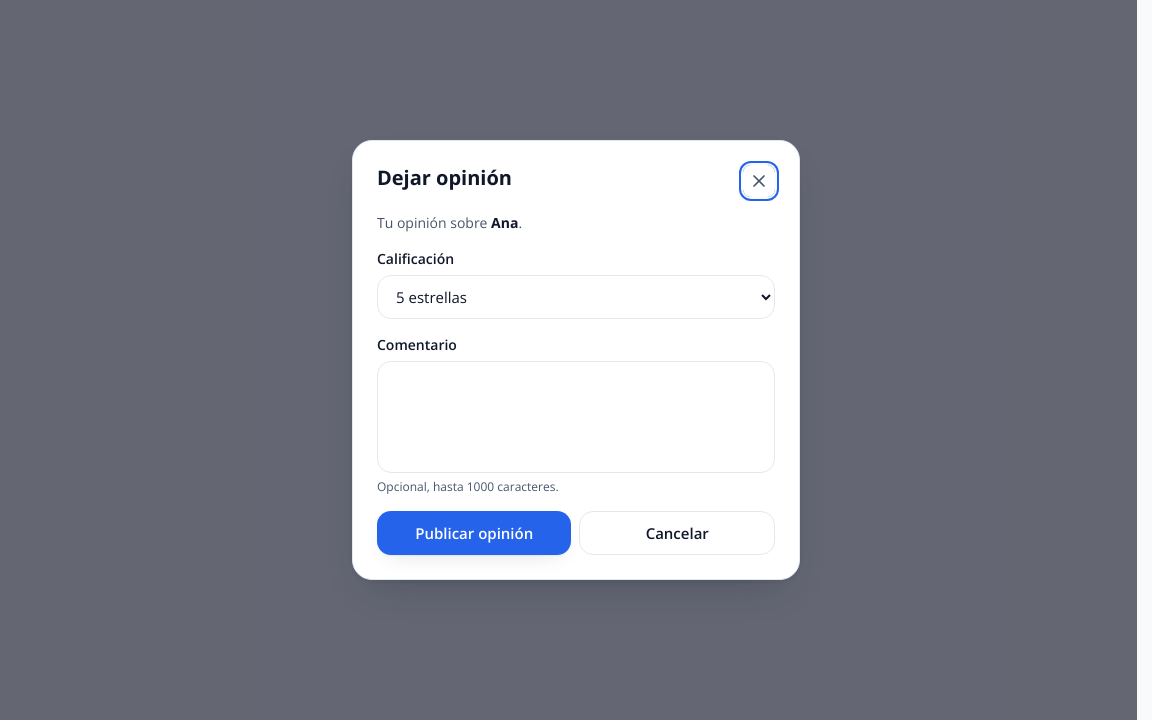
Scenario: ReviewModal › explains the accepted-contact rule when the API rejects with 403
Click the button "Publicar opinión". click: (474, 533)
box: top-left (377, 511), bottom-right (571, 555)
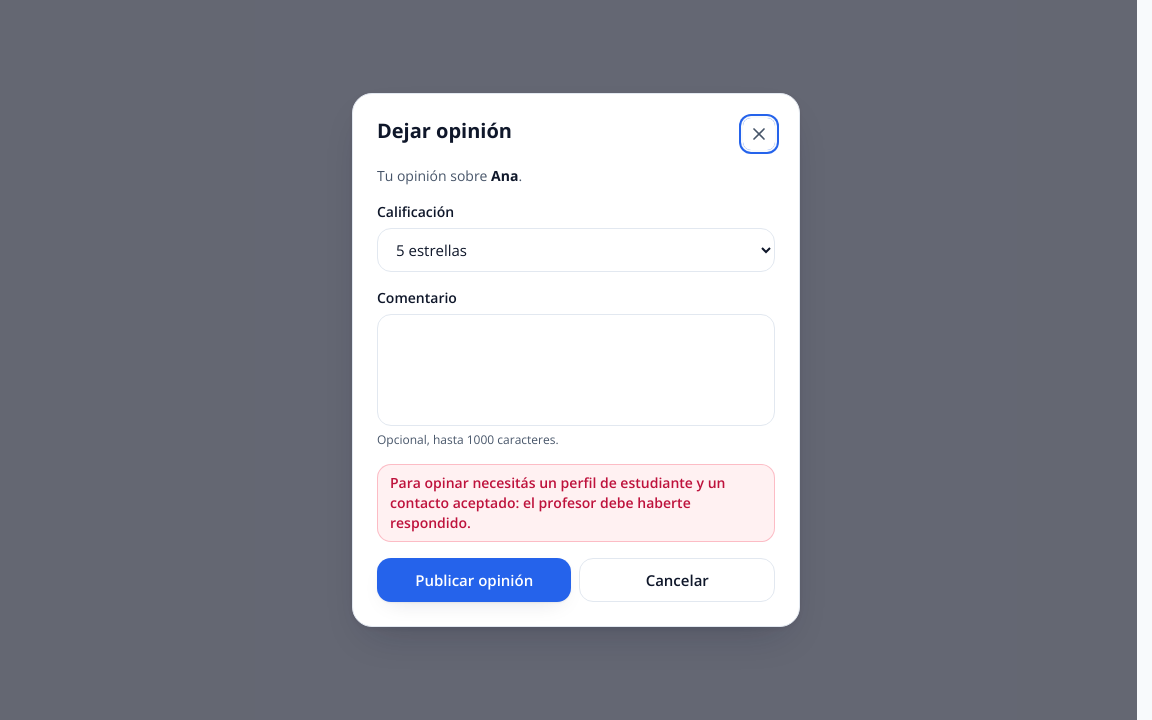
expect the text "Para opinar necesitás un perfil de estudiante y un contacto aceptado: el profesor debe haberte respondido." is shown: met, box top-left (390, 473), bottom-right (726, 532)
